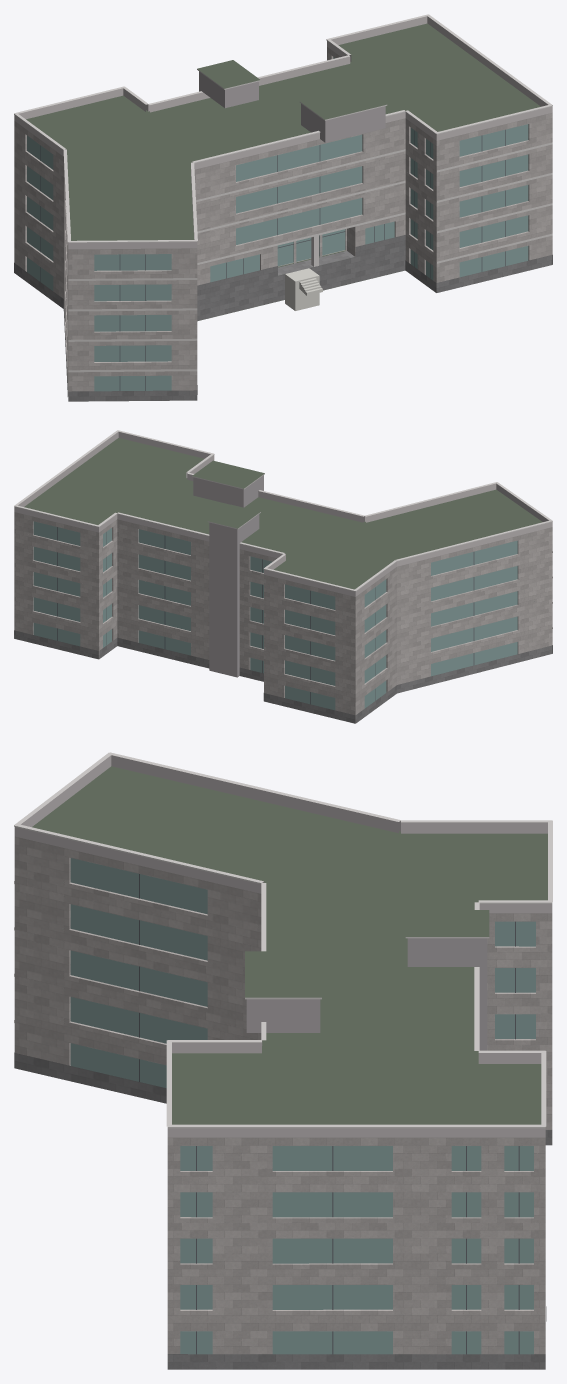
3 views of the same model, one above another, from view 1: azimuth 30°, elevation 25°; view 2: azimuth 150°, elevation 25°; view 3: azimuth 270°, elevation 25° (orthographic). The views are drawn at different scales.
Parts seen in each view (by area): view 1: music54__wall, music54__roof, music54__glass, music54__base, music54__trim, music54__parapet, music54__wall2, music54__entranceStair, music54__frame; view 2: music54__wall, music54__roof, music54__glass, music54__parapet, music54__wall2, music54__base, music54__trim, music54__frame; view 3: music54__wall, music54__roof, music54__glass, music54__parapet, music54__base, music54__trim, music54__wall2, music54__frame.
Part boxes in pixels (x1,y1,x2,y2): music54__wall: [14, 47, 552, 395]; music54__roof: [26, 23, 540, 401]; music54__glass: [27, 57, 528, 391]; music54__base: [14, 235, 552, 401]; music54__trim: [14, 14, 552, 372]; music54__parapet: [14, 16, 552, 249]; music54__wall2: [199, 71, 385, 142]; music54__entranceStair: [285, 268, 322, 310]; music54__frame: [40, 129, 505, 390]; music54__wall: [14, 460, 552, 723]; music54__roof: [24, 438, 542, 589]; music54__glass: [33, 521, 517, 710]; music54__parapet: [14, 431, 552, 596]; music54__wall2: [193, 475, 263, 677]; music54__base: [14, 630, 552, 723]; music54__trim: [14, 430, 552, 628]; music54__frame: [57, 527, 474, 704]; music54__wall: [14, 836, 552, 1354]; music54__roof: [32, 766, 547, 1124]; music54__glass: [70, 858, 535, 1354]; music54__parapet: [14, 755, 552, 1137]; music54__base: [14, 1052, 552, 1369]; music54__trim: [14, 752, 552, 1128]; music54__wall2: [246, 938, 487, 1050]; music54__frame: [139, 874, 519, 1354].
Size of the model in its own units: 62.45 by 21.74 by 37.97.
Materials: 11 (2 with a texture image).
